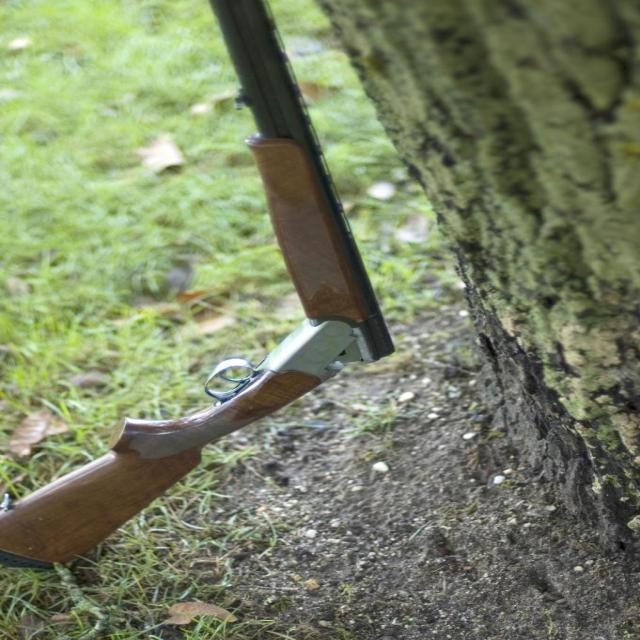weapon: (0, 0, 396, 572)
